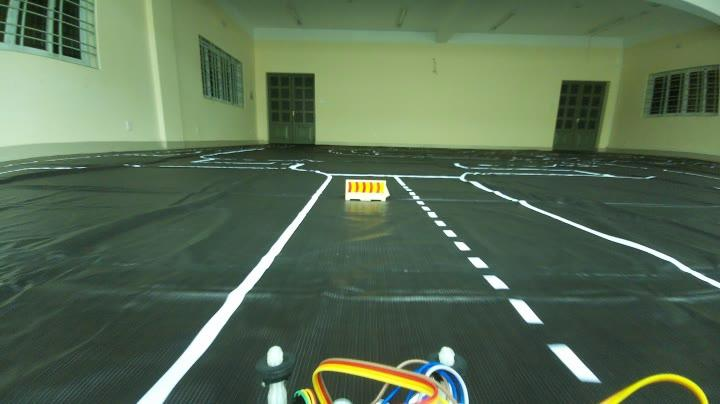roadblock: (342, 178, 394, 208)
